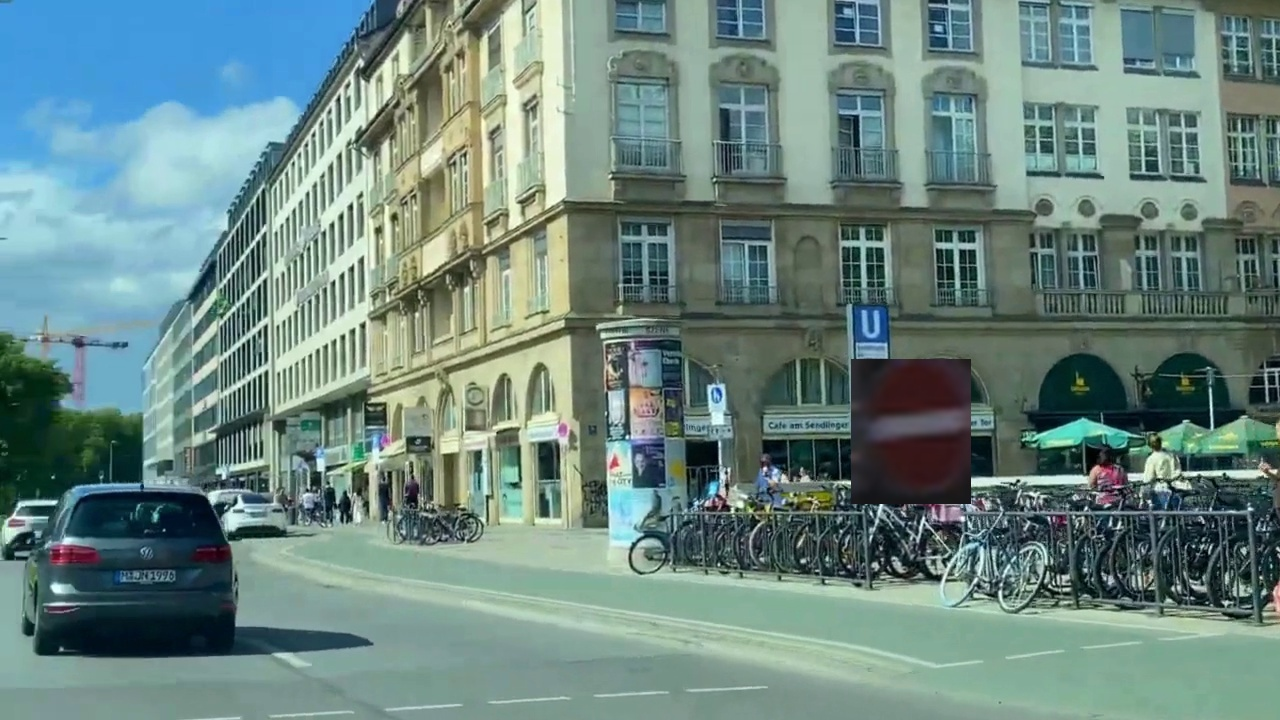No entry: (851, 359, 971, 504)
